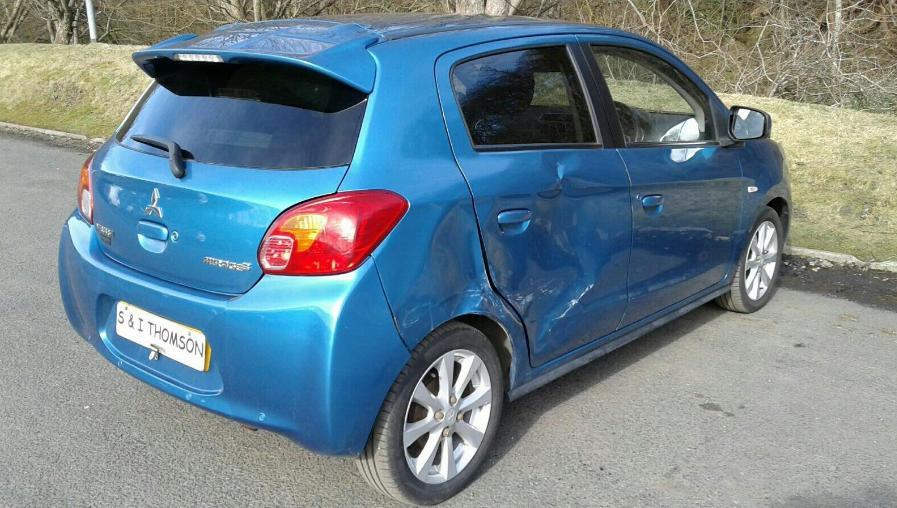Back-bumper: (59, 211, 411, 460)
Back-door: (434, 33, 633, 368)
Back-wheel: (354, 322, 504, 505)
Back-window: (453, 46, 597, 144)
Back-windshield: (122, 63, 367, 168)
Fender: (726, 141, 792, 278)
Front-door: (574, 34, 743, 331)
Front-wheel: (716, 207, 783, 313)
Front-window: (589, 45, 715, 142)
License-plate: (116, 302, 208, 371)
Mirror: (728, 106, 772, 142)
Quarter-panel: (337, 154, 533, 375)
Rocker-panel: (508, 274, 735, 402)
Roof: (292, 12, 612, 39)
Tail-light: (258, 190, 409, 276), (78, 152, 95, 225)
Trunk: (91, 19, 384, 294)
